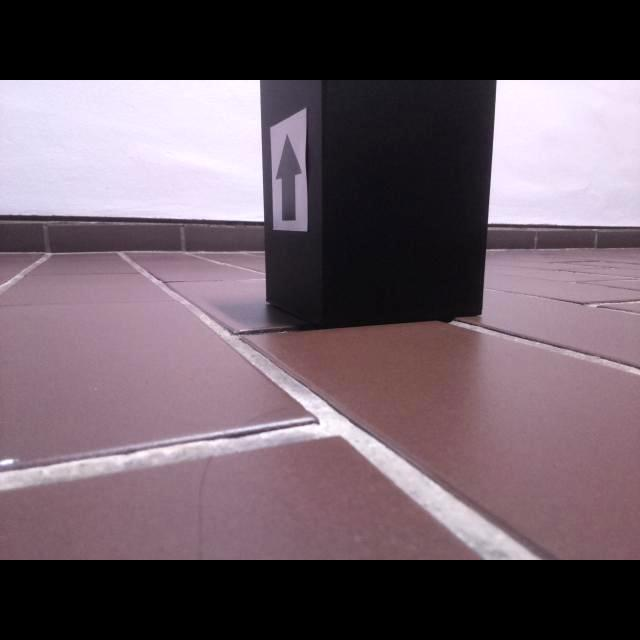UP: (275, 132, 303, 221)
